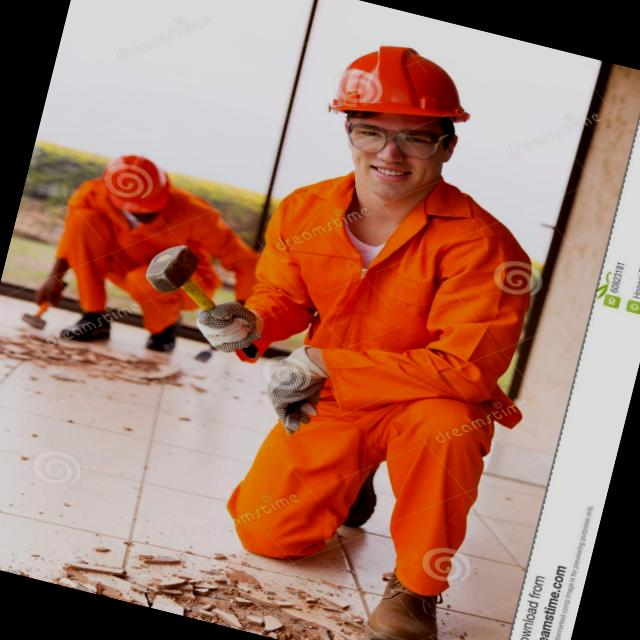helmet: (316, 28, 489, 144), (87, 140, 187, 224)
vest: (224, 147, 578, 453), (52, 181, 224, 307)
